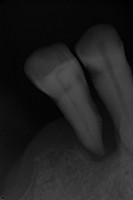Dental Caries: (85, 115, 120, 162)
